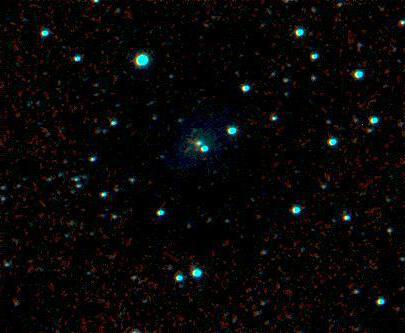star: (182, 135, 212, 165)
